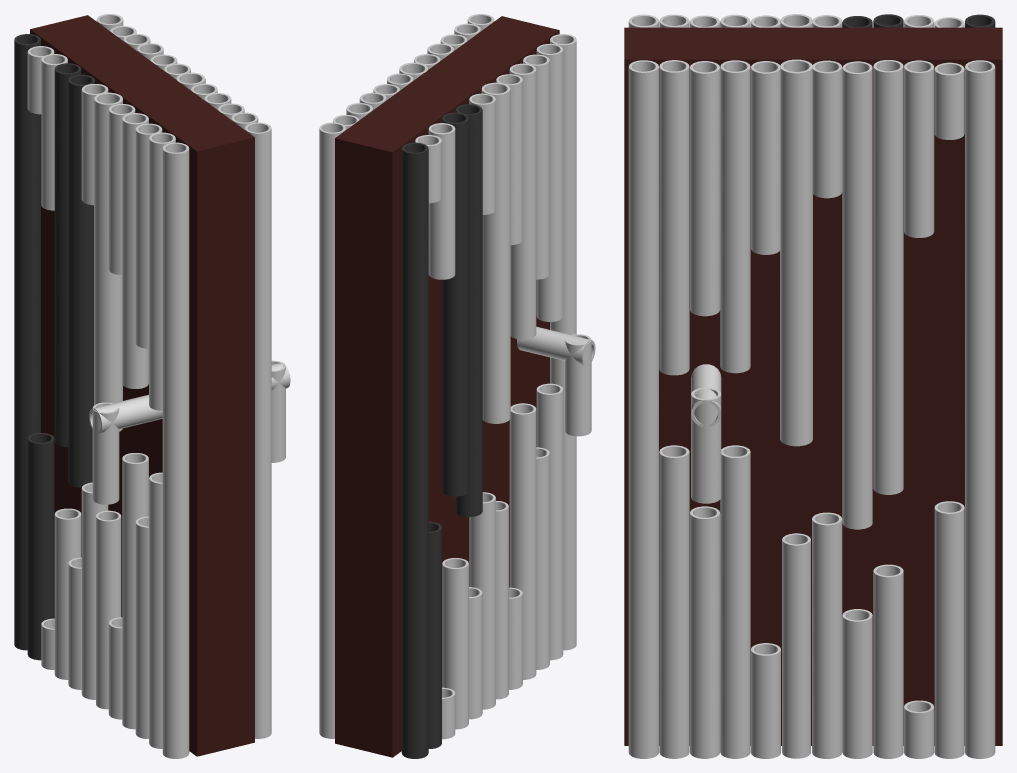
Rendered from FactoryDoorTest.FBX.
3 views of the same model, side by side, from view 1: azimuth 30°, elevation 25°; view 2: azimuth 150°, elevation 25°; view 3: azimuth 270°, elevation 25° (orthographic). The views are drawn at different scales.
Visible parts, largest first — view 1: Box001, Tube065, Tube072, Tube060, Tube064, Tube067, Tube061, Tube051, Tube048, Tube052, Tube024, Tube057 (+18 smaller); view 2: Box001, Tube064, Tube052, Tube061, Tube067, Tube057, Tube065, Tube069, Tube040, Tube016, Tube059, Tube071 (+17 smaller); view 3: Box001, Tube041, Tube037, Tube043, Tube048, Tube040, Tube016, Tube024, Tube047, Tube023, Tube045, Tube021 (+15 smaller).
Boxes of the visible parts, x1,y1,x2,y2 form: Box001: [30, 15, 254, 756]; Tube065: [68, 74, 94, 487]; Tube072: [162, 142, 189, 456]; Tube060: [162, 451, 189, 758]; Tube064: [14, 34, 40, 347]; Tube067: [94, 92, 122, 431]; Tube061: [54, 63, 81, 446]; Tube051: [27, 433, 54, 660]; Tube048: [245, 122, 271, 436]; Tube052: [14, 343, 40, 650]; Tube024: [255, 431, 271, 738]; Tube057: [122, 453, 148, 729]; Box001: [335, 16, 559, 757]; Tube064: [401, 142, 428, 456]; Tube052: [401, 451, 428, 758]; Tube061: [442, 112, 468, 496]; Tube067: [481, 82, 510, 423]; Tube057: [509, 403, 536, 679]; Tube065: [455, 104, 482, 516]; Tube069: [509, 63, 536, 339]; Tube040: [319, 122, 345, 436]; Tube016: [319, 431, 334, 738]; Tube059: [536, 383, 563, 660]; Tube071: [536, 44, 563, 321]; Box001: [624, 27, 1002, 745]; Tube041: [842, 61, 872, 529]; Tube037: [873, 60, 903, 494]; Tube043: [780, 59, 812, 446]; Tube048: [628, 60, 658, 415]; Tube040: [965, 60, 995, 415]; Tube016: [965, 410, 995, 758]; Tube024: [628, 410, 658, 758]; Tube047: [659, 60, 689, 375]; Tube023: [659, 445, 689, 758]; Tube045: [720, 60, 750, 373]; Tube021: [720, 445, 750, 758].
Bounding box in the file's own units: 12.89 × 39.39 × 19.69.
